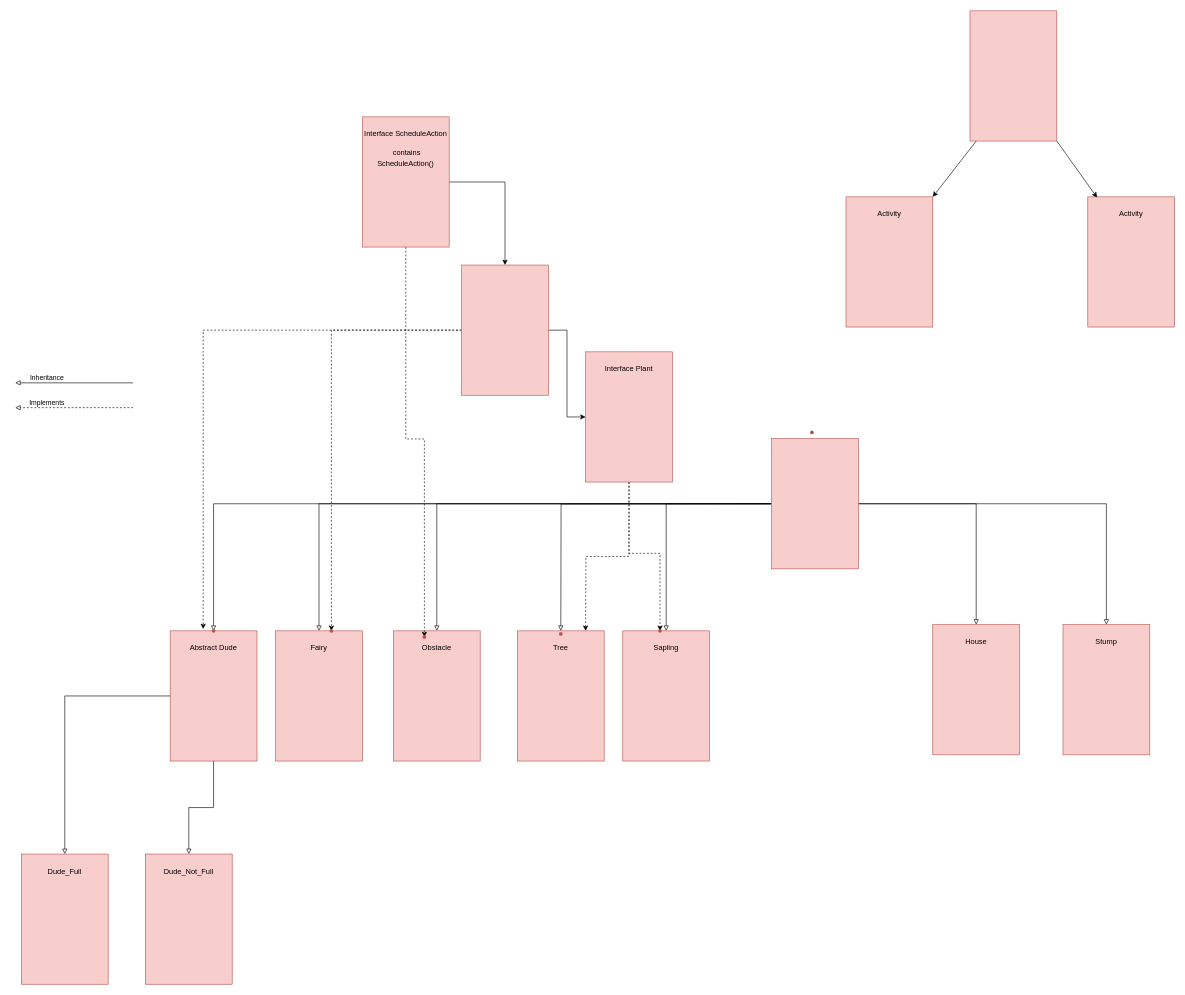
Image size: 1185x995. Some labels were removed from this diagram. The centre of each missing label's shape, as x and y in pixels:
Abstract Action: (1013,75)
Abstract Entity: (814,503)
Interface ExecuteAction contains ExecuteAction(): (504,329)
